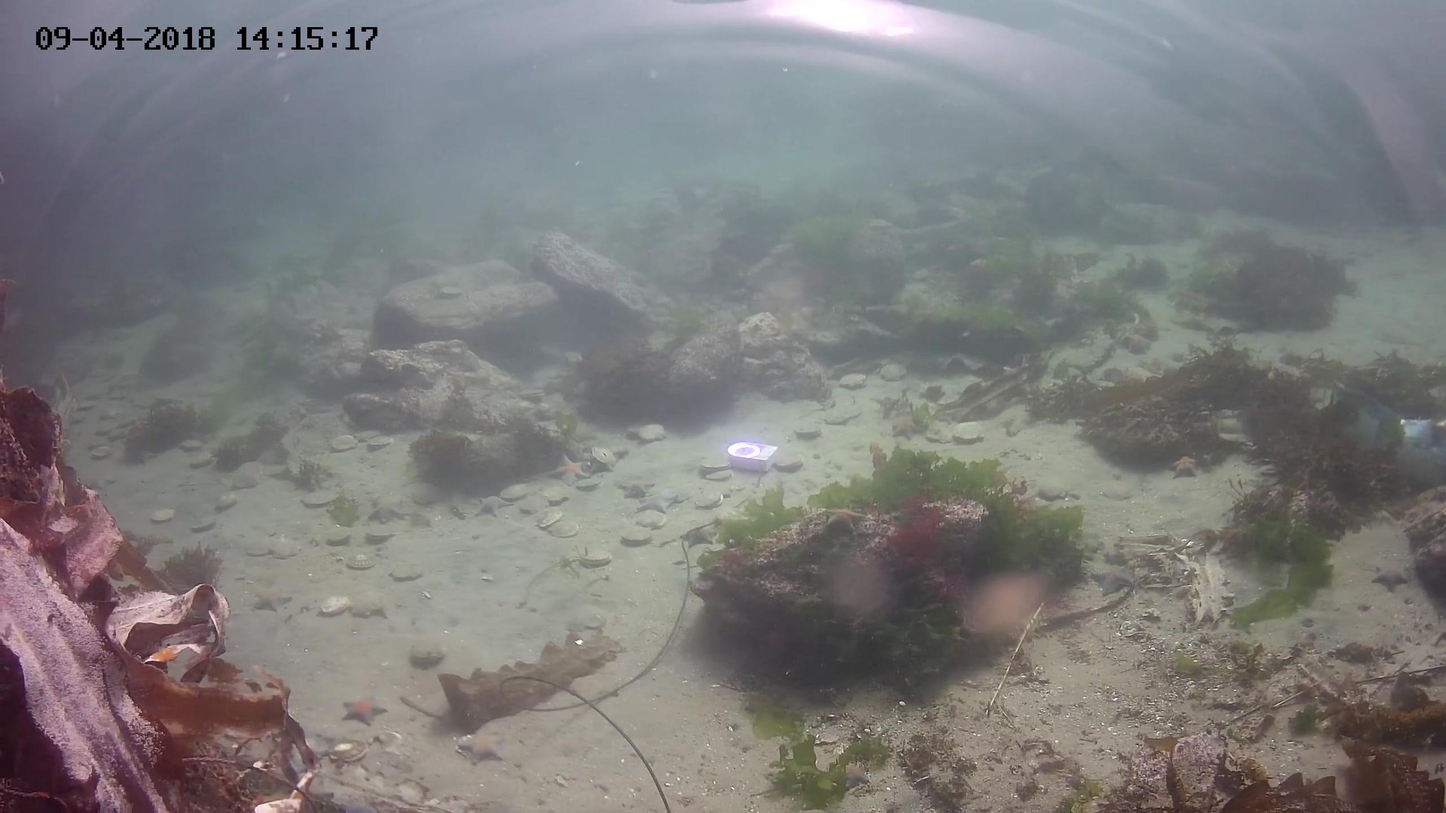holothurian: (456, 727, 508, 766), (1094, 559, 1139, 599), (546, 453, 593, 490), (337, 696, 389, 727), (367, 492, 410, 524), (250, 584, 296, 613), (634, 487, 679, 515), (888, 412, 925, 444), (615, 474, 656, 502), (1372, 564, 1410, 593), (471, 495, 506, 522), (681, 524, 720, 548), (1168, 453, 1201, 479)
scallop: (404, 633, 447, 668), (298, 482, 346, 512), (821, 399, 866, 426), (577, 544, 612, 574), (950, 417, 987, 444), (315, 593, 353, 617), (548, 518, 581, 544), (328, 428, 359, 454), (386, 560, 422, 582), (267, 535, 296, 562), (500, 478, 531, 502), (345, 550, 380, 571), (144, 504, 179, 524), (187, 513, 217, 536), (792, 421, 822, 443), (369, 430, 398, 452), (694, 488, 722, 510), (623, 524, 651, 545), (699, 454, 733, 471), (770, 456, 799, 475), (536, 508, 561, 529), (245, 538, 269, 556), (188, 451, 212, 468), (89, 444, 111, 461), (182, 439, 204, 453)
